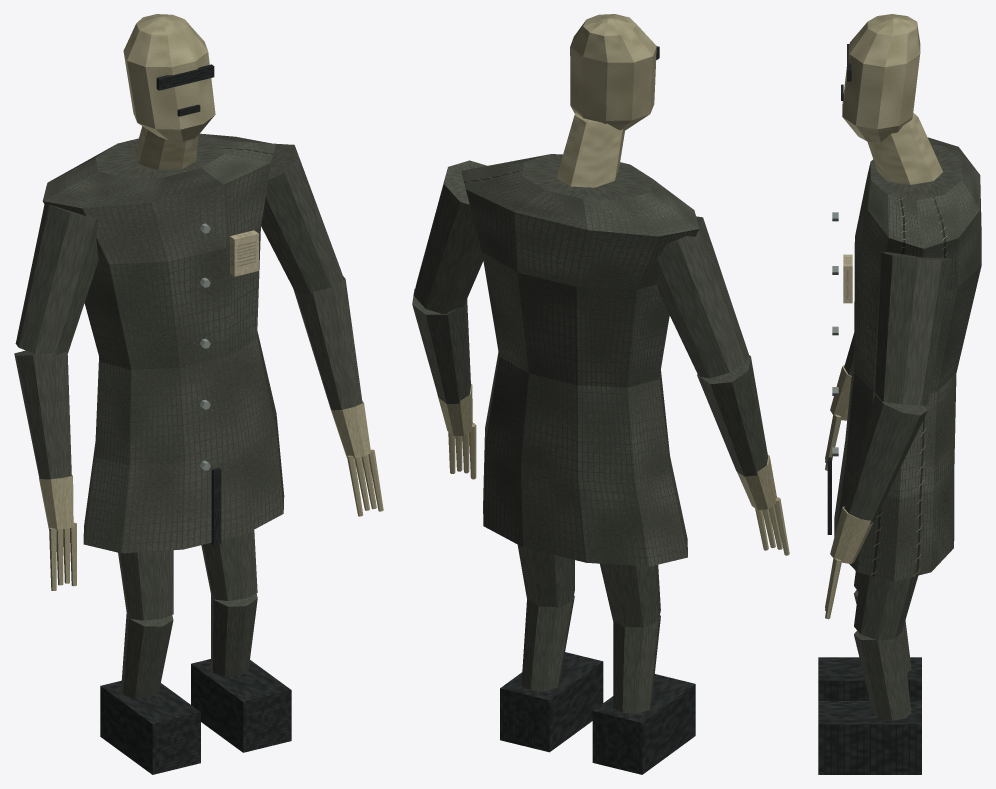
The model's file is Watcher.glb.
3 renders of one model, left to right at view 1: azimuth 30°, elevation 25°; view 2: azimuth 150°, elevation 25°; view 3: azimuth 270°, elevation 25°, orthographic. The views are drawn at different scales.
Visible parts, largest first — view 1: Watcher; view 2: Watcher; view 3: Watcher.
Part boxes in pixels (x1=…): Watcher: x1=14, y1=14, x2=383, y2=774; Watcher: x1=412, y1=14, x2=789, y2=774; Watcher: x1=818, y1=14, x2=981, y2=774.
Size of the model in its own units: 1.02 by 2.12 by 0.4412.
5 materials, 5 textured.
